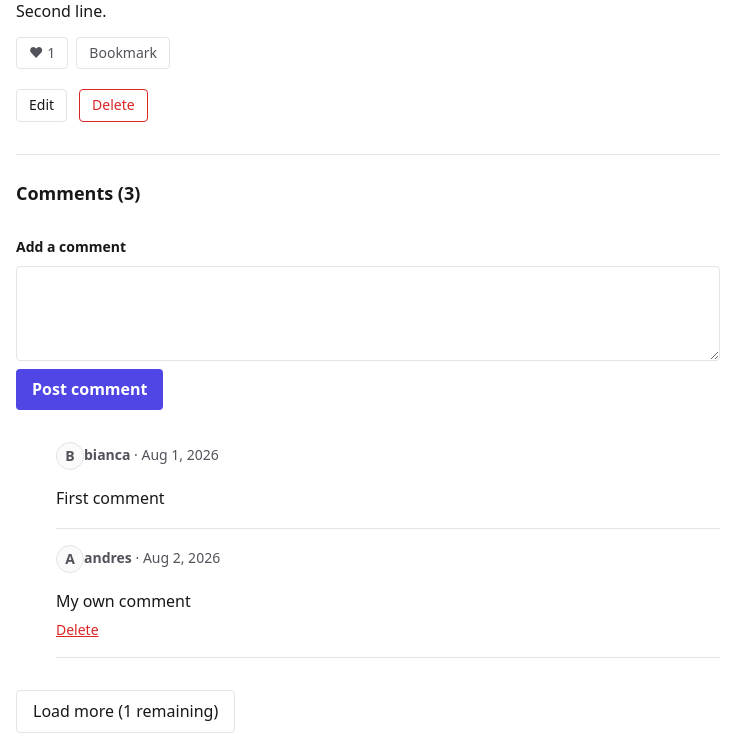
Scenario: Post detail › shows Delete only on the viewer’s own comments and removes on click
(page scrolled)
Expected: the text "My own comment" is shown, [56,590,191,612]
Click the button "Delete" below "Aug 2, 2026" at (77, 630), box [56,618,99,641]
(page scrolled)
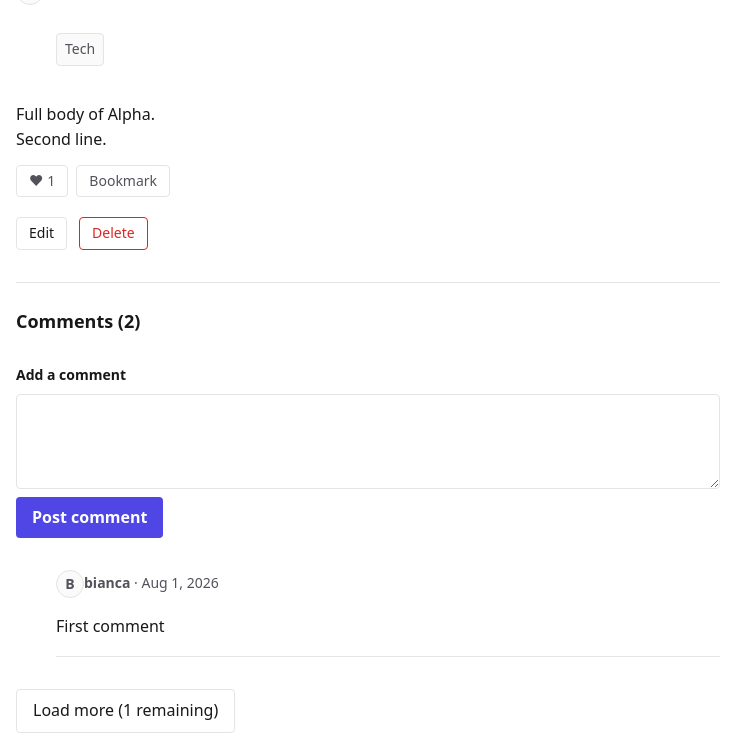
Expected: the text "First comment" is shown, [56,615,165,637]
Now the heading "Comments (2)" is shown, box [16,309,140,333]
Now the text "My own comment" is gone
